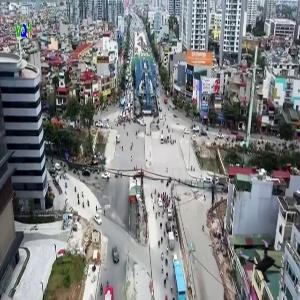drone: (238, 239, 292, 293)
